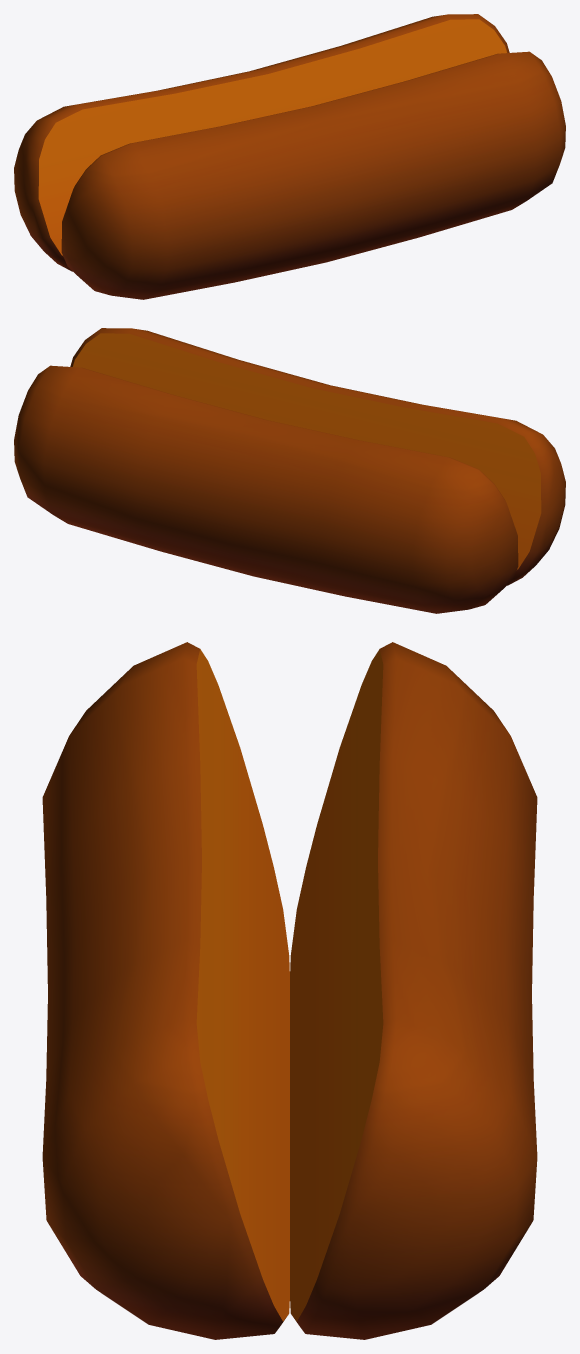
Rendered from HotDog_bun.004.fbx.
3 views of the same model, one above another, from view 1: azimuth 30°, elevation 25°; view 2: azimuth 150°, elevation 25°; view 3: azimuth 270°, elevation 25° (orthographic). The views are drawn at different scales.
Visible parts, largest first — view 1: HotDog_bun.004; view 2: HotDog_bun.004; view 3: HotDog_bun.004.
Part boxes in pixels (<box>): HotDog_bun.004: <box>14,14,565,299</box>; HotDog_bun.004: <box>14,328,565,613</box>; HotDog_bun.004: <box>42,642,537,1339</box>.
Bounding box in the file's own units: 153 × 67.45 × 49.74.
